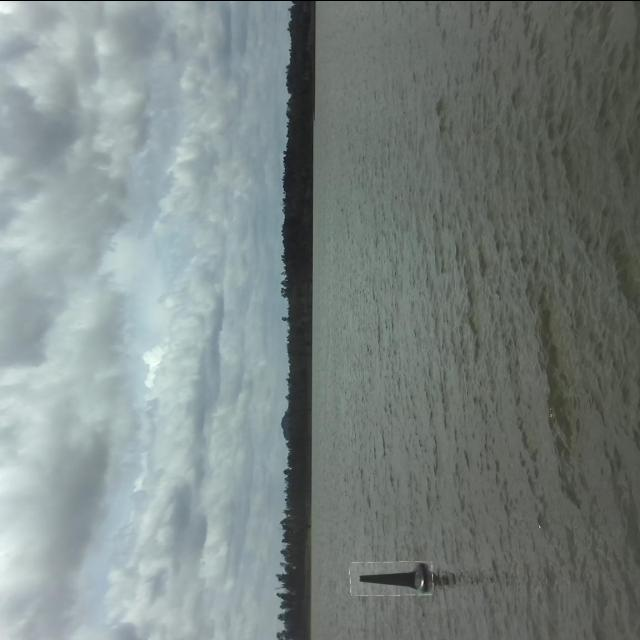Black_Buoy: (350, 560, 429, 596)
